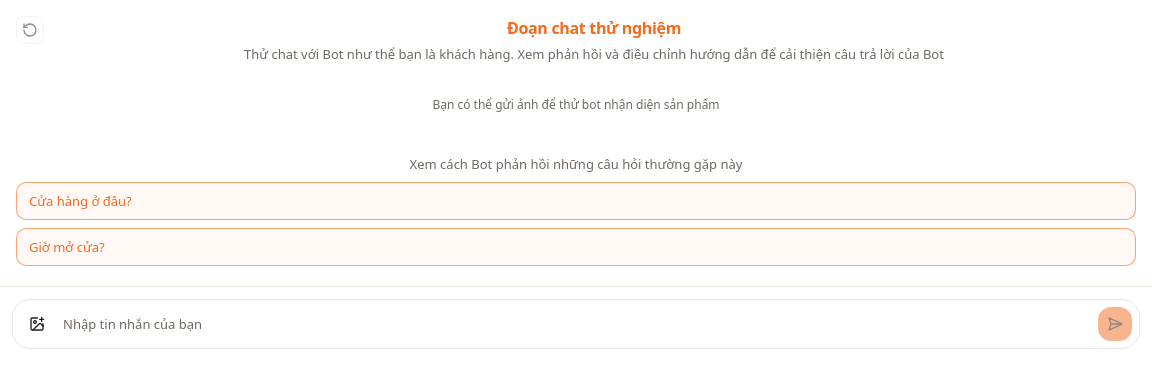
it: TestChat › offers the FAQ starters only while empty and resets the conversation
Expected: the text "Xem cách Bot phản hồi những câu hỏi thường gặp này" is shown, left=410, top=155, right=742, bottom=173
Click the button "Cửa hàng ở đâu?": (80,201) left=16, top=182, right=1136, bottom=220
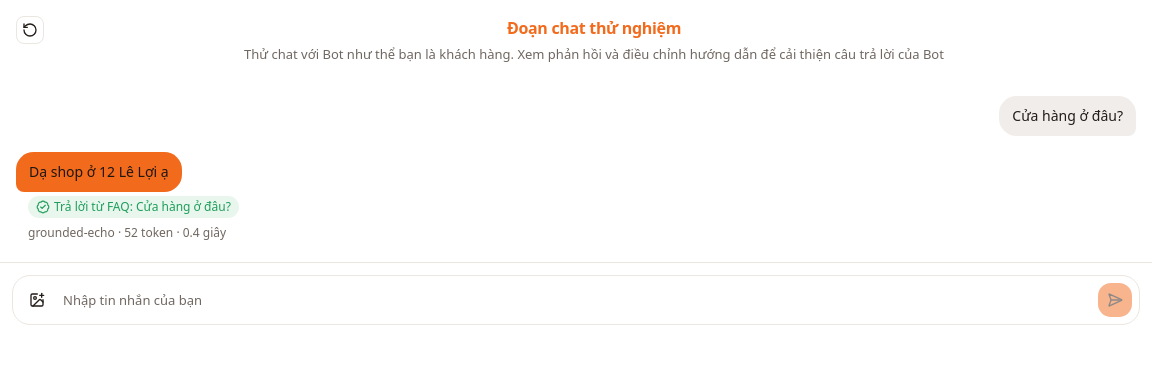
Expected: the button "Dạ shop ở 12 Lê Lợi ạ" is shown, left=16, top=152, right=182, bottom=193
Expected: the button "Giờ mở cửa?" is gone
Click the button named "Làm mới đoạn chat": (30,30) left=16, top=16, right=44, bottom=44
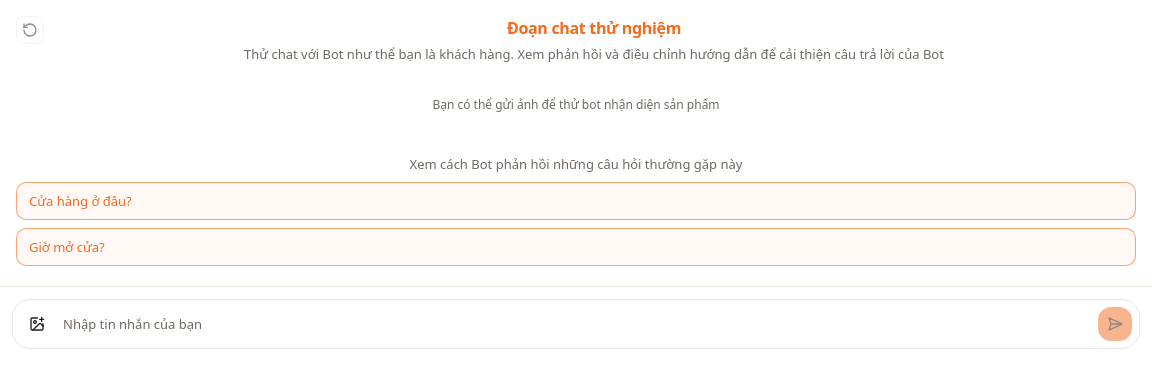
Expected: the button "Dạ shop ở 12 Lê Lợi ạ" is gone
Expected: the button "Giờ mở cửa?" is shown, left=16, top=228, right=1136, bottom=266
